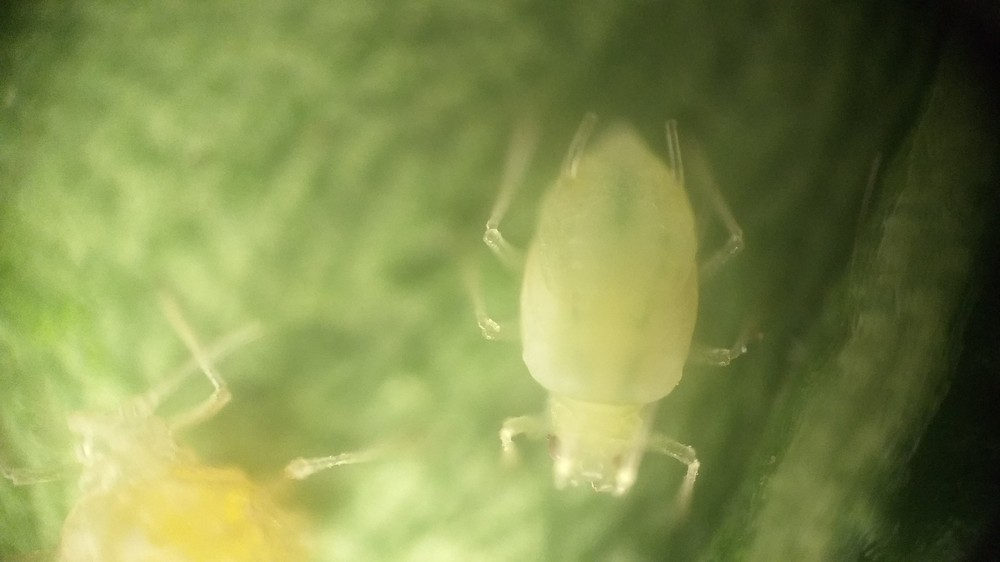Pulgon: (444, 99, 777, 515), (1, 308, 358, 562)
